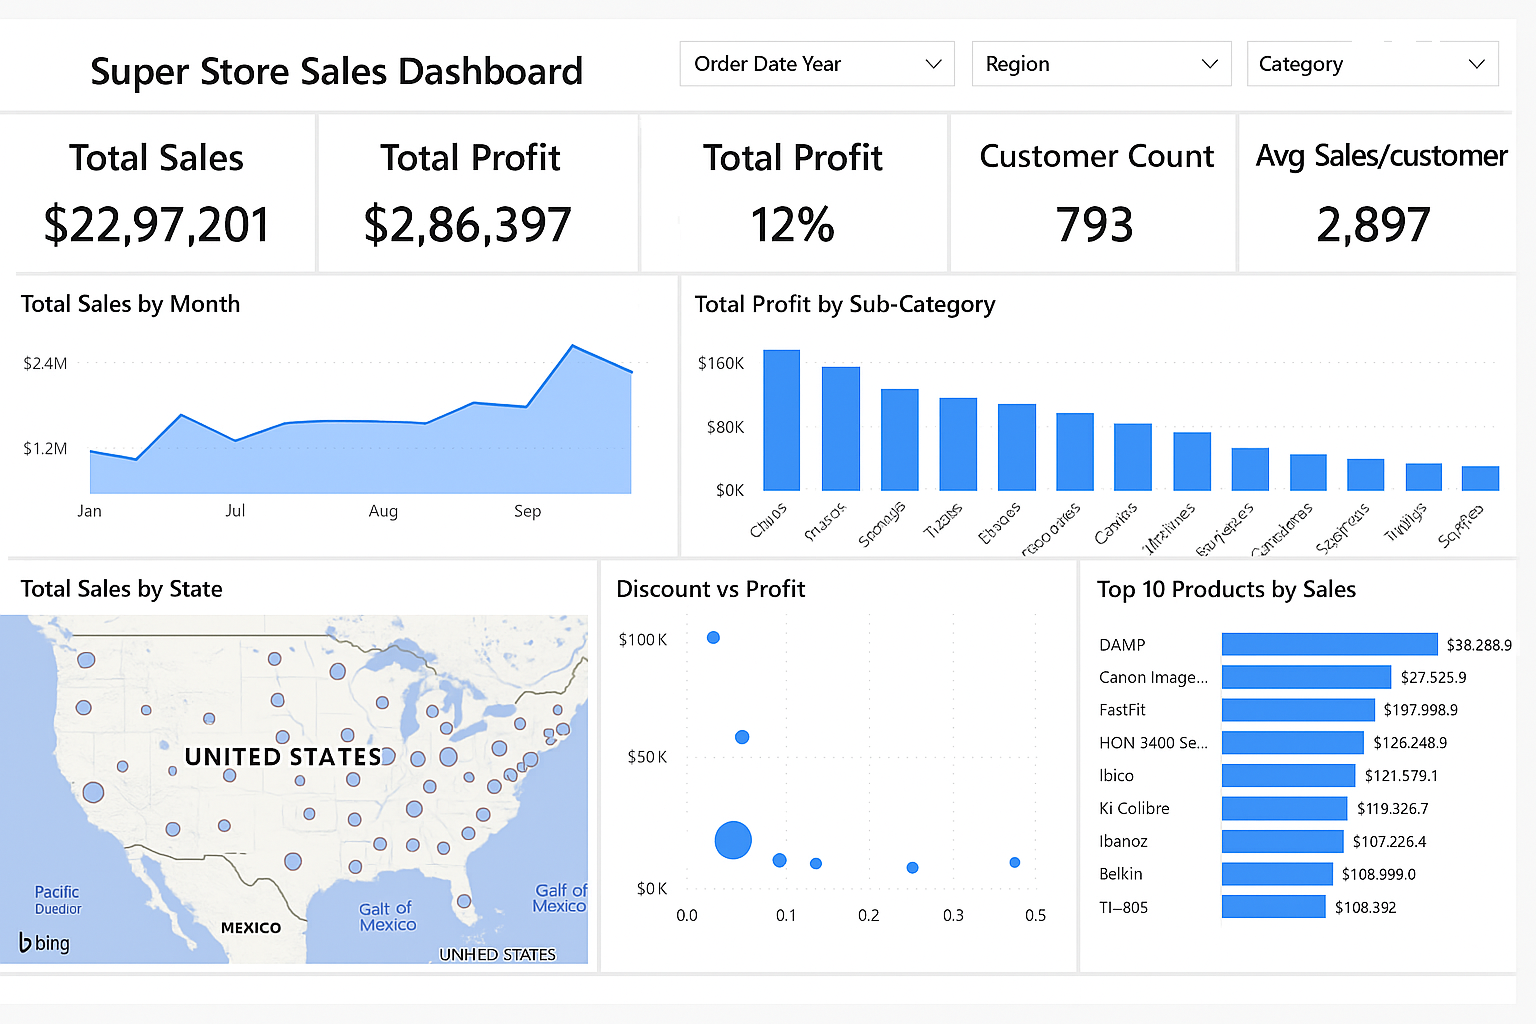

This screenshot's page, from the dashboard's own definition file:
{"tool":"powerbi","page":{"name":"Page 1","canvas":[1280,720],"ordinal":0},"visuals":[{"type":"textbox","title":"Super Store Sales Dashboard","box":[0,2.5,552.2,71.2],"z":0},{"type":"slicer","fields":{"Values":["SuperstoreSales.OrderDate_Orig.Variation.Date Hierarchy.Year"]},"box":[563.2,11,239.3,62.6],"z":1000},{"type":"slicer","fields":{"Values":["SuperstoreSales.Region"]},"box":[813.5,11,228.2,62.6],"z":2000},{"type":"slicer","fields":{"Values":["SuperstoreSales.Category"]},"box":[1054,11,217.2,62.6],"z":3000},{"type":"card","title":"Total Sales","fields":{"Values":["_Measures.Total Sales"]},"box":[0,77.3,262,100.6],"z":4000},{"type":"card","title":"Total Profit","fields":{"Values":["_Measures.Total Profit"]},"box":[265,77.3,247,100.6],"z":5000},{"type":"card","title":"Total Profit","fields":{"Values":["_Measures.Profit Margin"]},"box":[514.1,77.3,251,100.6],"z":6000},{"type":"card","title":"Customer Count","fields":{"Values":["_Measures.Customer Count"]},"box":[768.1,77.3,251,100.6],"z":7000},{"type":"card","title":"Avg Sales/customer","fields":{"Values":["_Measures.Avg Sales per Order"]},"box":[1022.1,77.3,250.3,100.6],"z":8000},{"type":"areaChart","fields":{"Category":["SuperstoreSales.OrderDate_Orig.Variation.Date Hierarchy.Month"],"Y":["_Measures.Total Sales"]},"box":[2.5,182.8,602,245.4],"z":9000},{"type":"columnChart","fields":{"Category":["SuperstoreSales.Sub-Category"],"Y":["_Measures.Total Profit"]},"box":[609.8,184.1,661.4,244.2],"z":10000},{"type":"map","fields":{"Category":["SuperstoreSales.State"],"Size":["_Measures.Total Sales"]},"box":[2.5,431.9,454,279.8],"z":11000},{"type":"scatterChart","title":"Discount vs Profit","fields":{"X":["SuperstoreSales.Discount"],"Y":["Sum(SuperstoreSales.Profit)"],"Size":["Sum(SuperstoreSales.Sales)"]},"box":[460,431.9,403,279],"z":11001},{"type":"barChart","title":"Top 10 Products By Sales","fields":{"Category":["SuperstoreSales.Product Name"],"Y":["_Measures.Total Sales"]},"box":[868.7,431.9,402.5,279.8],"z":11002}]}

Visuals, with their boxes on the page's 1280x720 design canvas (x1, y1, x2, y2). These are canvas units, not pixel positions in the 1536x1024 screenshot, which may show the page scaled, cropped or inside an application window:
"Super Store Sales Dashboard" textbox: 0:2:552:74
slicer - SuperstoreSales.OrderDate_Orig.Variation.Date Hierarchy.Year: 563:11:802:74
slicer - SuperstoreSales.Region: 814:11:1042:74
slicer - SuperstoreSales.Category: 1054:11:1271:74
"Total Sales" card: 0:77:262:178
"Total Profit" card: 265:77:512:178
"Total Profit" card: 514:77:765:178
"Customer Count" card: 768:77:1019:178
"Avg Sales/customer" card: 1022:77:1272:178
areaChart - SuperstoreSales.OrderDate_Orig.Variation.Date Hierarchy.Month x _Measures.Total Sales: 2:183:604:428
columnChart - SuperstoreSales.Sub-Category x _Measures.Total Profit: 610:184:1271:428
map - SuperstoreSales.State x _Measures.Total Sales: 2:432:456:712
"Discount vs Profit" scatterChart: 460:432:863:711
"Top 10 Products By Sales" barChart: 869:432:1271:712
